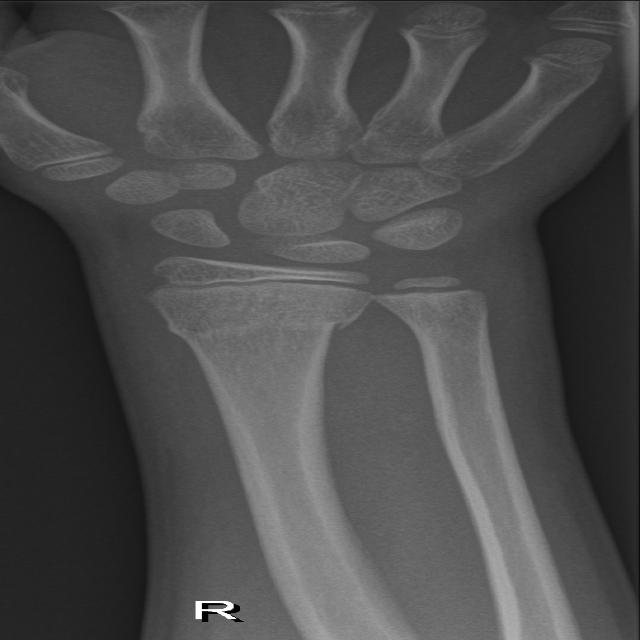radius fracture: (146, 301, 374, 376)
